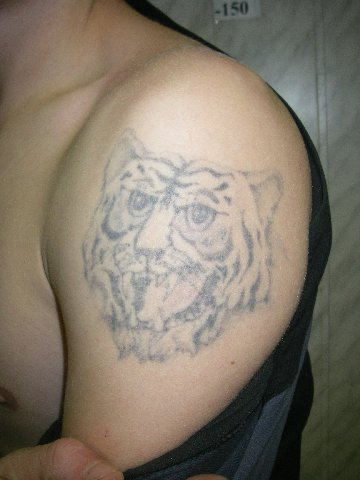tatu5_tigr: (78, 128, 283, 364)
